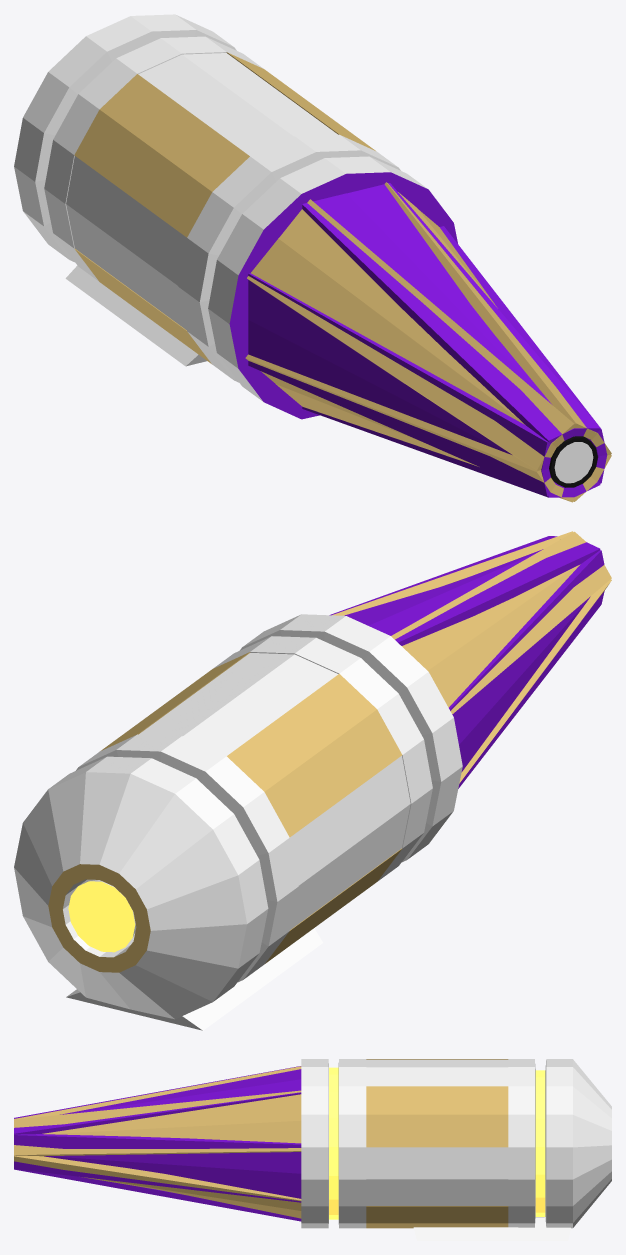
The model's file is Size5FargothBeamLaser.glb.
3 renders of one model, top to bottom at view 1: azimuth 30°, elevation 25°; view 2: azimuth 150°, elevation 25°; view 3: azimuth 270°, elevation 25°, orthographic. The views are drawn at different scales.
Visible parts, largest first — view 1: Size5FargothBeam; view 2: Size5FargothBeam; view 3: Size5FargothBeam.
Boxes of the visible parts, x1,y1,x2,y2 form: Size5FargothBeam: (14,14,611,502); Size5FargothBeam: (14,531,611,1030); Size5FargothBeam: (14,1059,611,1240).
Size of the model in its own units: 1.12 by 1.12 by 3.95.
